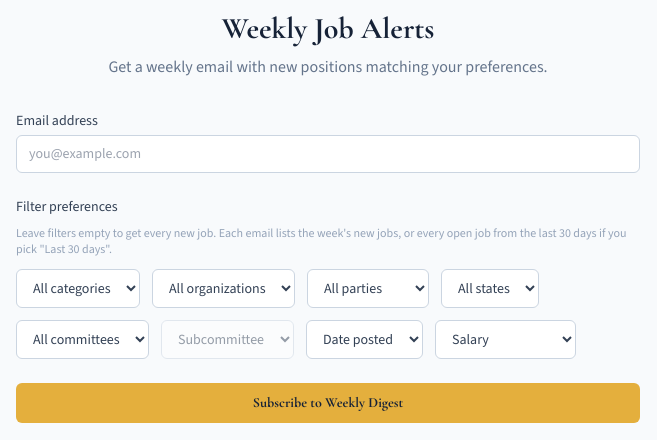
Scenario: Subscribe › saves the date posted choice with the other filters
Type "reader@example.com" into the field labelled "Email address" at coordinates (328, 154), box [16,135,640,173]
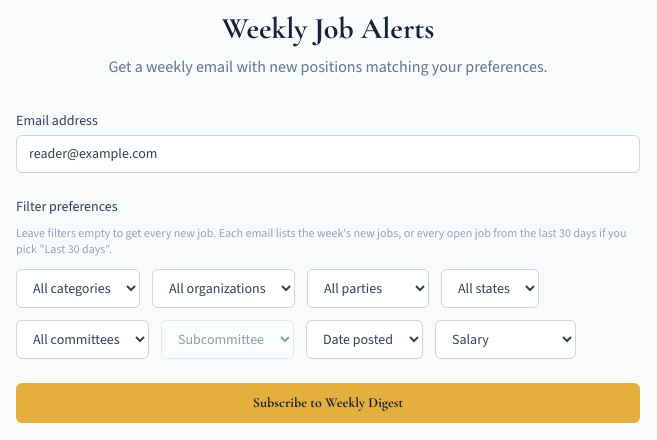
Select "Last 30 days" in the dropdown named "Posted within" at coordinates (364, 340), box [306,320,423,359]
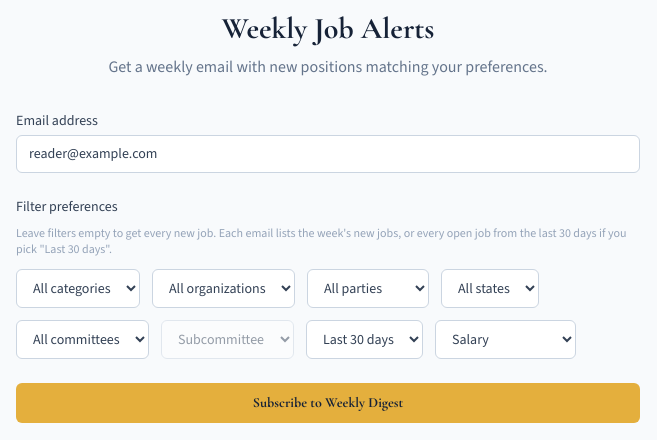
Click the button "Subscribe to Weekly Digest" at coordinates (328, 403), box [16,383,640,423]
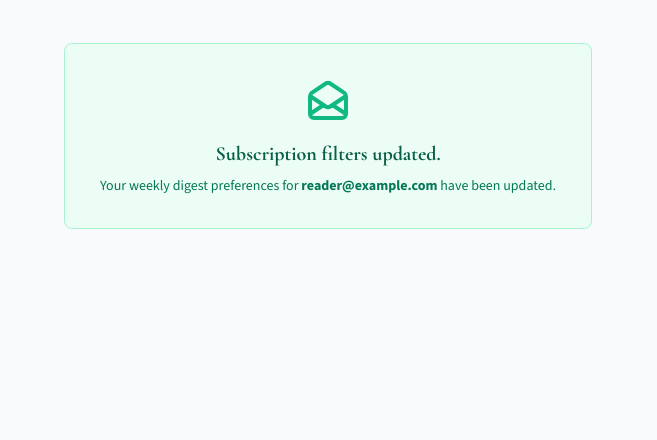
Check: the heading "Subscription filters updated." is shown, box [215,142,440,166]
